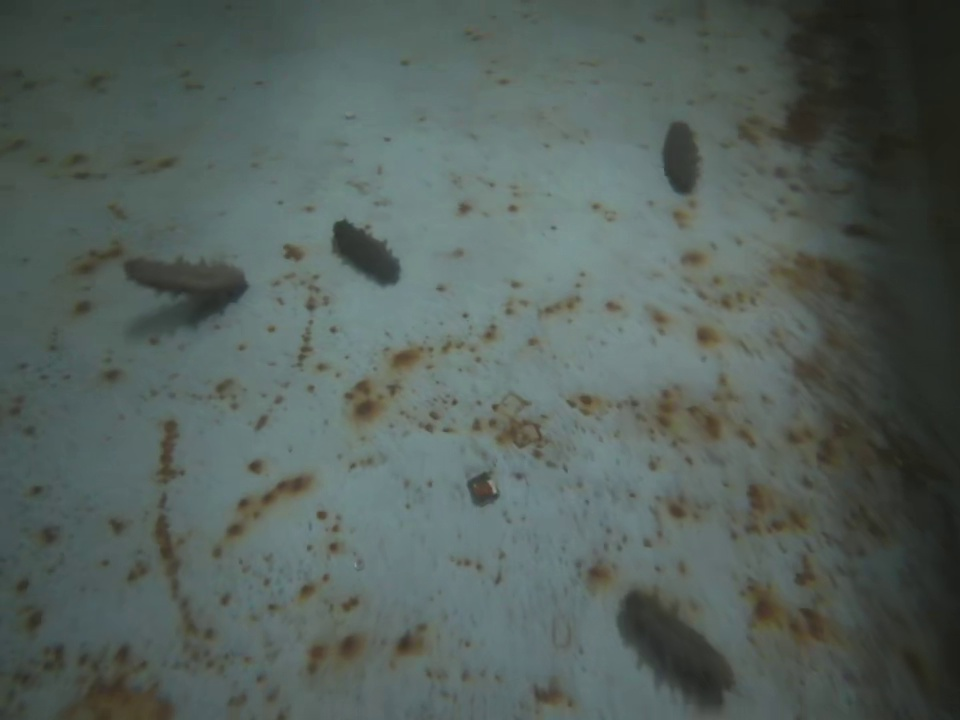seacucumber: (621, 585, 737, 696), (121, 254, 251, 305), (329, 213, 406, 284), (661, 120, 701, 195)
